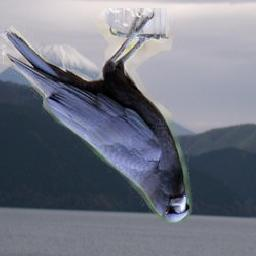Crow: (0, 9, 194, 224)
